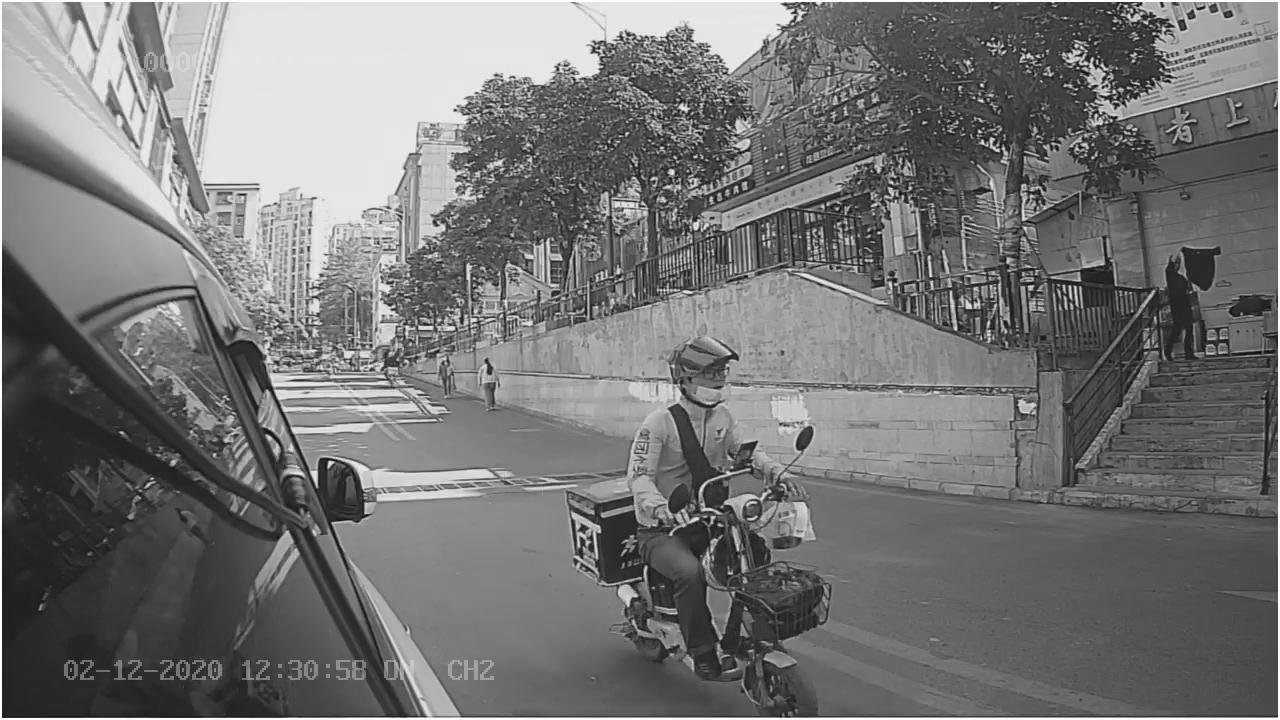person: (629, 323, 775, 527)
